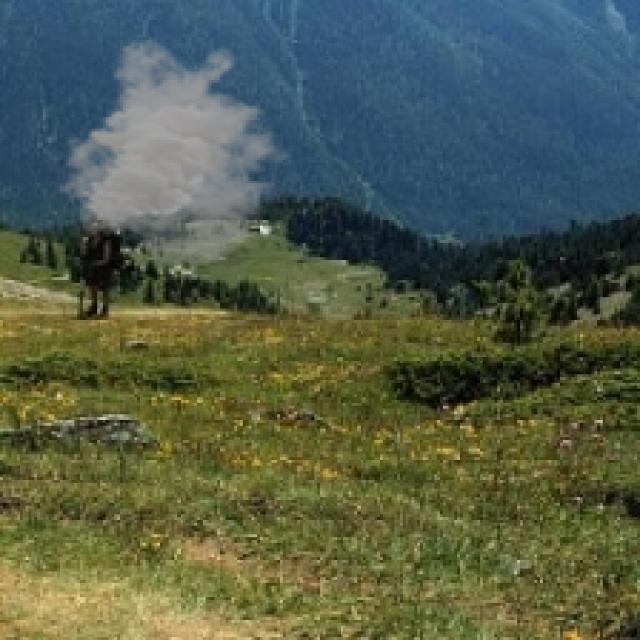smoke: (54, 37, 300, 269)
